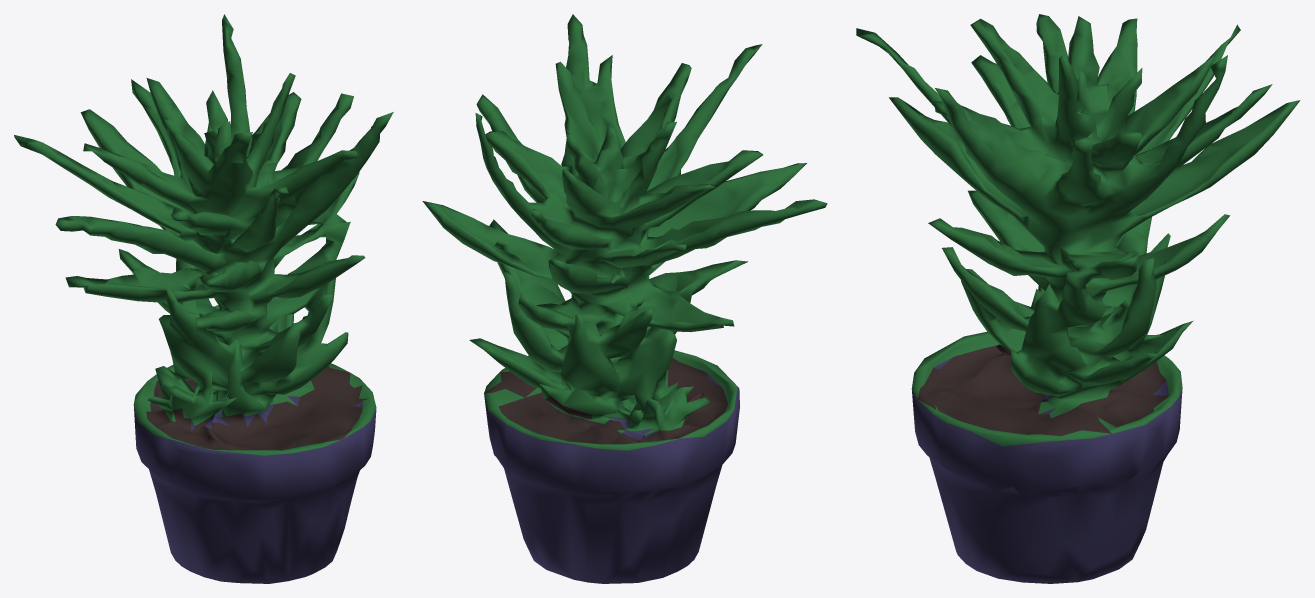
The model's file is plante_t.fbx.
The picture shows the model from 3 angles, left to right: view 1: azimuth 30°, elevation 25°; view 2: azimuth 150°, elevation 25°; view 3: azimuth 270°, elevation 25°; orthographic projection. The views are drawn at different scales.
Parts seen in each view (by area): view 1: SPIKEY_SUCCULENT_5K; view 2: SPIKEY_SUCCULENT_5K; view 3: SPIKEY_SUCCULENT_5K.
Boxes of the visible parts, bbox=[...] form: SPIKEY_SUCCULENT_5K: bbox=[14, 14, 393, 583]; SPIKEY_SUCCULENT_5K: bbox=[422, 14, 827, 583]; SPIKEY_SUCCULENT_5K: bbox=[856, 14, 1300, 583].
Size of the model in its own units: 35.95 by 45.95 by 35.68.
